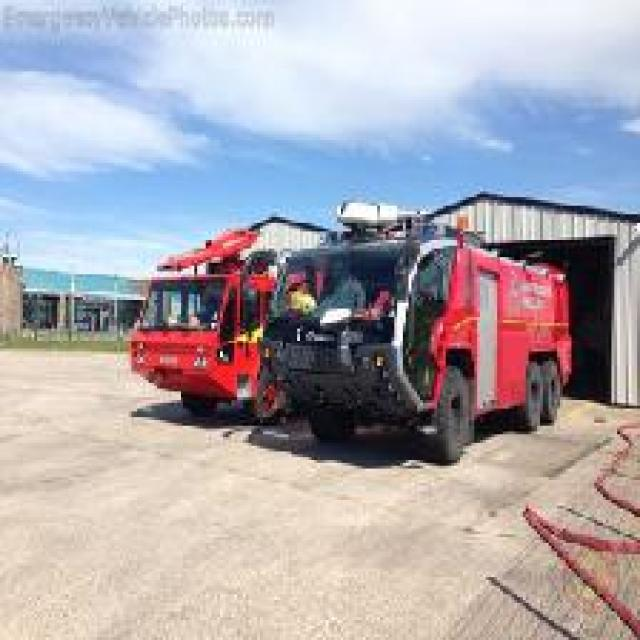Fire-truck: (255, 200, 574, 463)
